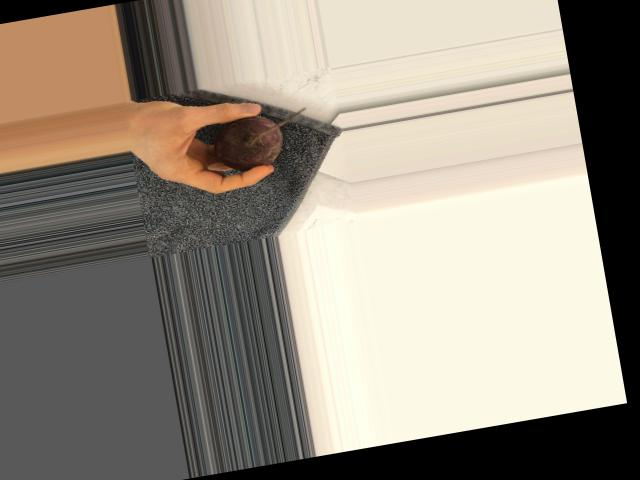beet: (210, 106, 315, 175)
